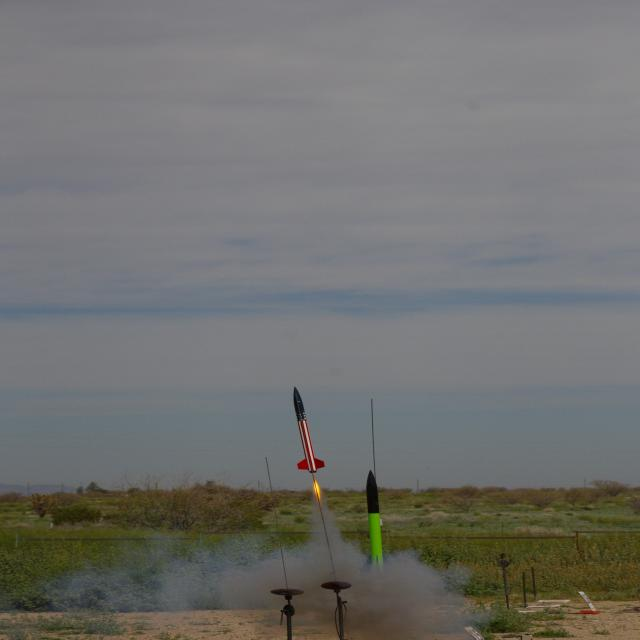Rocket: (358, 469, 395, 576), (292, 386, 327, 474)
